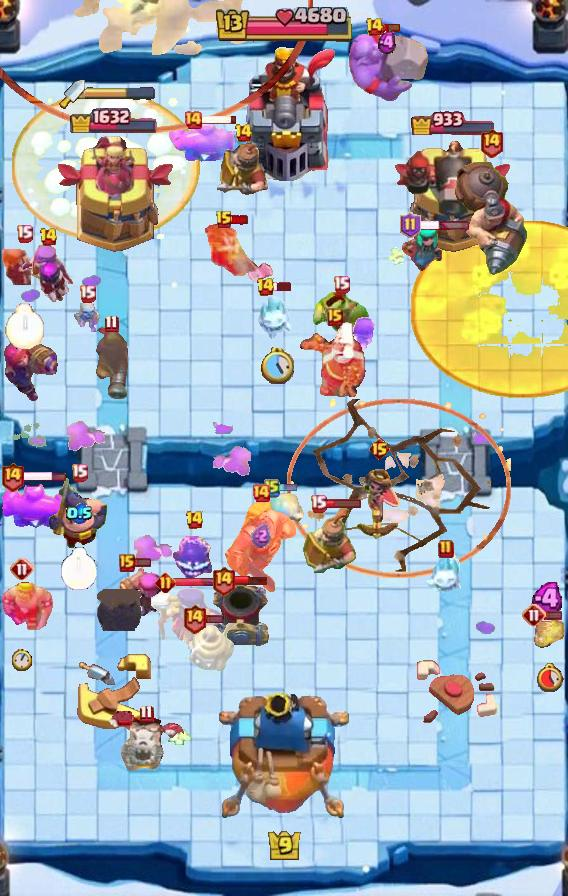bar: (12, 470, 67, 483), (173, 577, 225, 588), (418, 220, 470, 231), (325, 498, 362, 509), (201, 114, 238, 125), (233, 575, 269, 586), (231, 214, 250, 226), (273, 281, 293, 292), (381, 22, 401, 33), (544, 610, 563, 621), (133, 557, 152, 568), (278, 483, 298, 493), (205, 614, 224, 624)
bar-level: (182, 603, 207, 634), (211, 565, 236, 596), (0, 461, 25, 492), (479, 127, 504, 158), (522, 603, 546, 627), (10, 557, 34, 581), (368, 437, 391, 461), (400, 212, 421, 238), (155, 572, 176, 593), (251, 483, 271, 503), (183, 110, 203, 130), (185, 510, 204, 530), (256, 277, 275, 297), (39, 227, 58, 247), (234, 123, 253, 143), (365, 17, 384, 37), (215, 210, 233, 230), (310, 494, 327, 513), (71, 463, 88, 482), (79, 284, 96, 303), (333, 275, 350, 294), (16, 224, 33, 243), (438, 539, 454, 559), (264, 478, 280, 498), (119, 554, 135, 572), (327, 308, 343, 326), (139, 704, 154, 723), (104, 314, 119, 333)
barbarian: (0, 580, 56, 630)
bomb: (97, 589, 141, 631)
cannoneer-tower: (392, 138, 514, 256)
clock: (5, 303, 44, 349), (60, 547, 98, 591), (261, 347, 294, 384), (535, 662, 564, 692), (12, 648, 32, 671)
dagger-duchess-tower: (52, 132, 176, 256)
dagger-duchess-tower-bar: (85, 87, 155, 101)
electro-spirit: (170, 533, 218, 579)
elixir: (531, 582, 567, 616), (66, 503, 93, 524), (251, 523, 271, 548), (378, 30, 396, 55)
elixir-golem-mid: (168, 117, 242, 169), (0, 481, 72, 531)
executioner: (48, 473, 110, 551)
firecracker: (118, 564, 165, 620)
firecracker-evolution: (2, 326, 60, 404)
goblin-brawler: (313, 292, 369, 346)
ice-spirit: (255, 292, 299, 342), (425, 557, 467, 603), (262, 489, 306, 525)
king-tower: (219, 692, 349, 826), (230, 45, 338, 181)
king-tower-bar: (213, 7, 355, 45)
lava-pup: (531, 619, 567, 651)
little-prince: (356, 465, 402, 545)
mortar: (209, 582, 271, 650)
mother-witch: (20, 244, 76, 308)
musketeer: (92, 323, 130, 401)
rascal-girl: (401, 224, 445, 274)
royal-recruit: (302, 507, 358, 573), (217, 136, 269, 204)
skeleton: (72, 300, 102, 332)
skeleton-evolution: (348, 315, 379, 355)
tower-bar: (69, 105, 159, 133), (410, 108, 497, 135)
valkyrie: (204, 221, 276, 289), (0, 247, 70, 303)
witch: (139, 587, 223, 649)
zappy: (186, 623, 238, 675)
